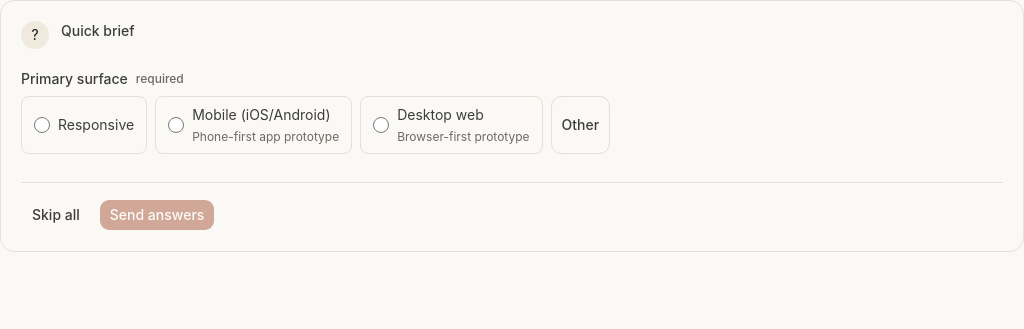
QuestionFormView › keeps the custom input collapsed behind the Other chip until clicked
The width and height of the screenshot is (1024, 329).
Click the button "Other".
click(580, 125)  # box [551,96,610,154]
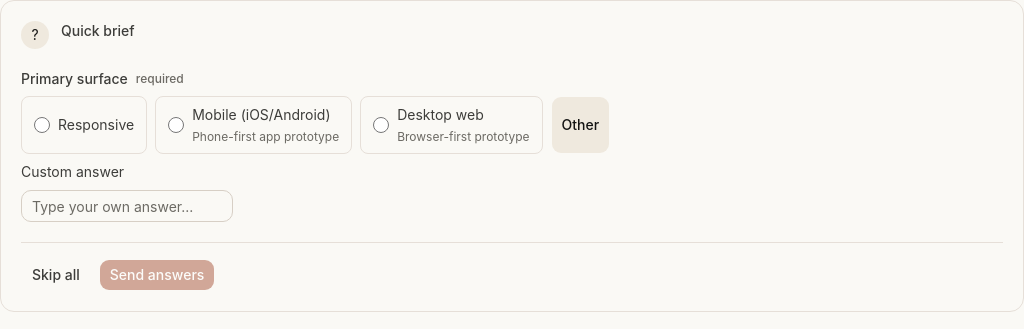
Now the field labelled "Custom answer" is enabled, box [21,190,233,222]
